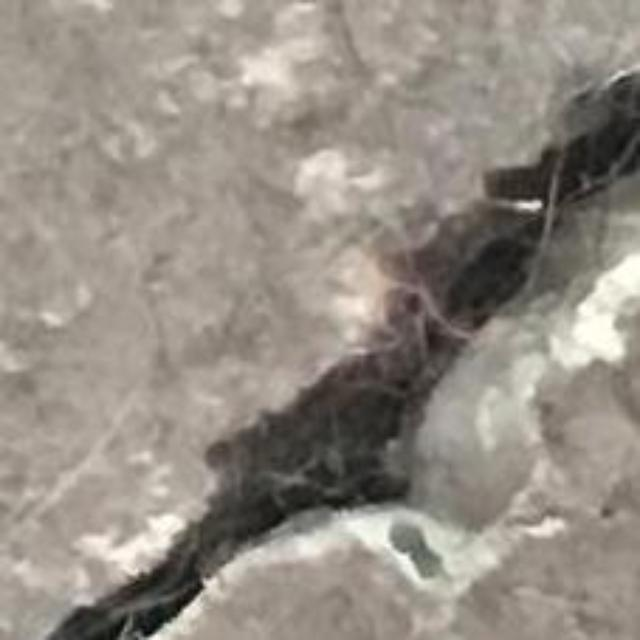crack: (46, 71, 639, 639)
